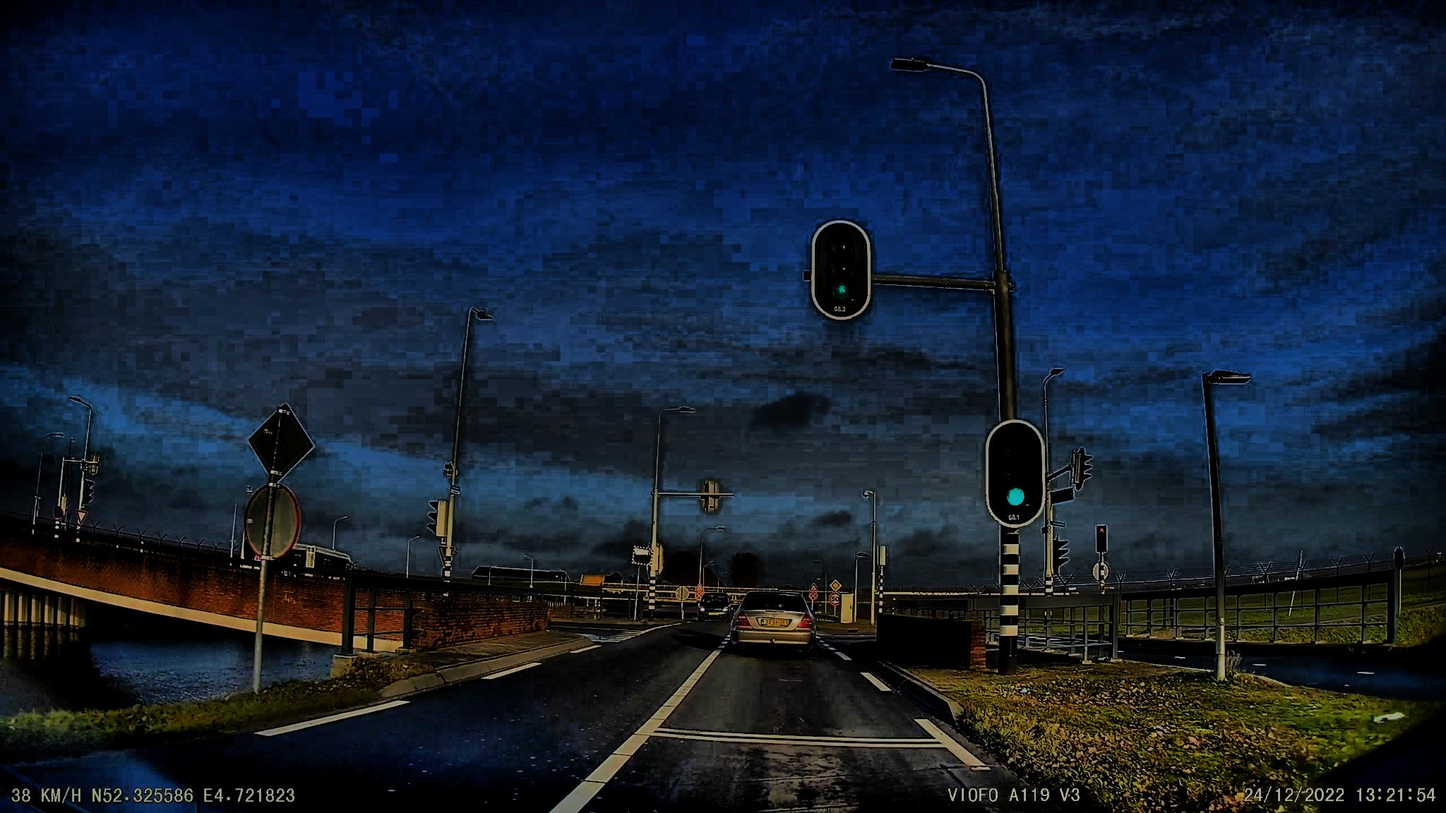Roads: (0, 625, 1084, 813)
